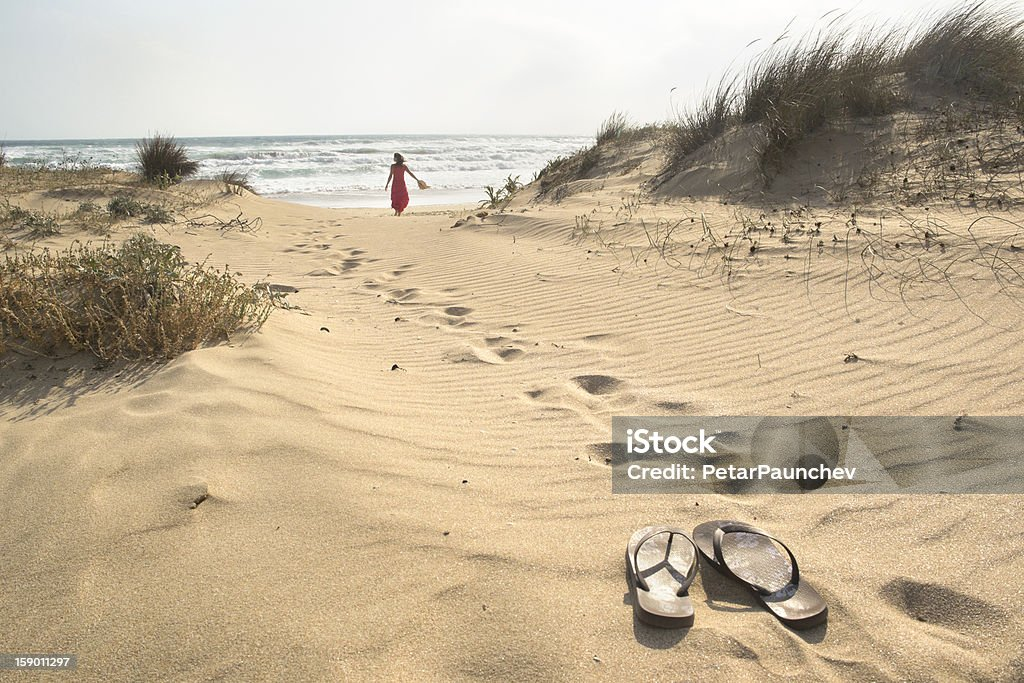human_foot_print: (870, 539, 1004, 651), (575, 430, 665, 500), (558, 347, 644, 416), (468, 324, 522, 370), (413, 300, 477, 322), (336, 240, 376, 275)
